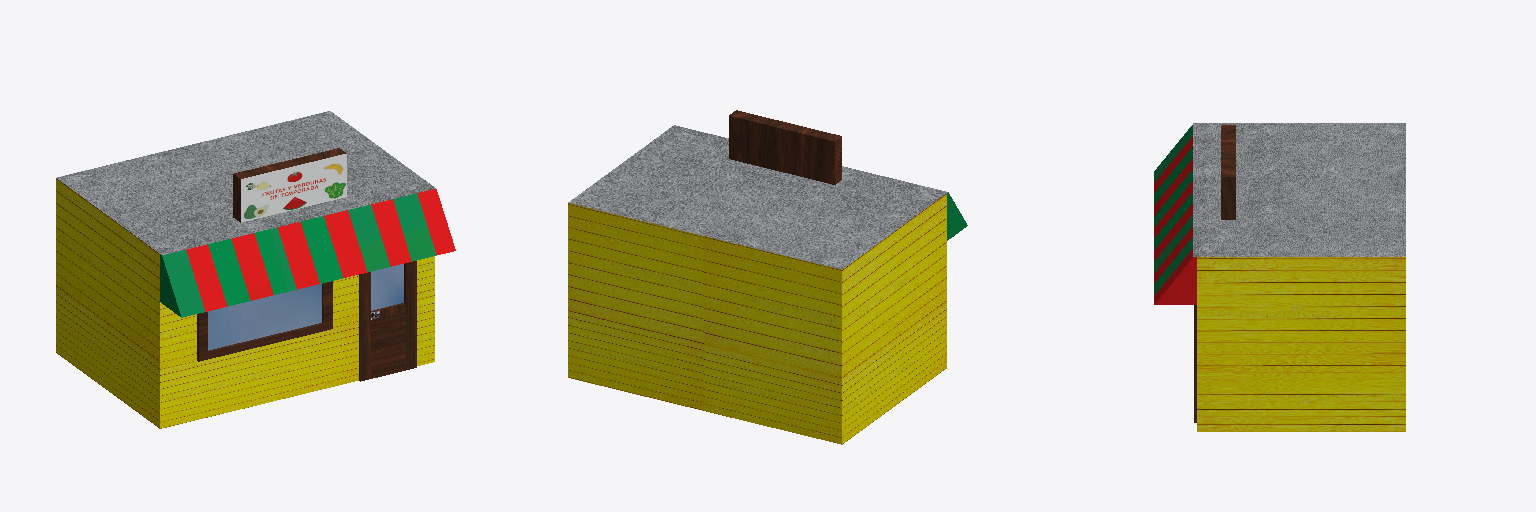
3 renders of one model, left to right at view 1: azimuth 30°, elevation 25°; view 2: azimuth 150°, elevation 25°; view 3: azimuth 270°, elevation 25°, orthographic.
Visible parts, largest first — view 1: Cube; view 2: Cube; view 3: Cube.
Part boxes in pixels (x1,y1,x2,y2): Cube: (56,111,455,428); Cube: (568,110,967,444); Cube: (1154,123,1405,431).
Bounding box in the file's own units: 425 × 323 × 338.
Materials: 1 (1 with a texture image).